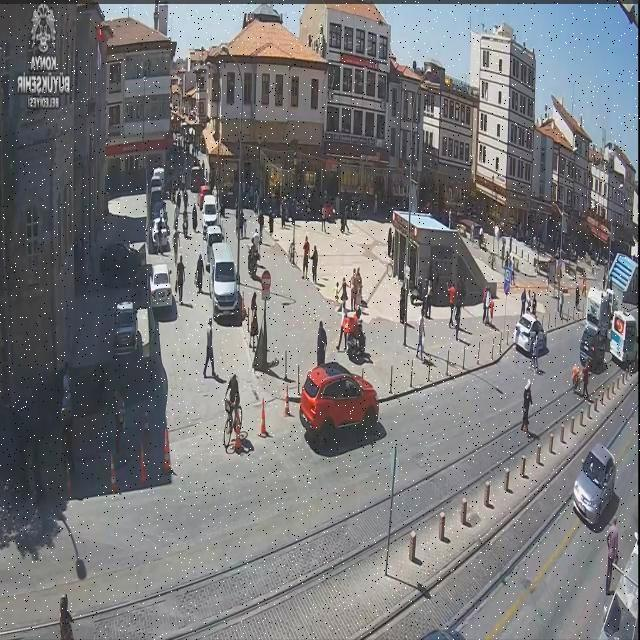Car: (295, 364, 384, 437), (572, 447, 624, 522), (512, 312, 552, 354), (578, 326, 608, 369), (148, 263, 173, 312)
Cycle: (223, 372, 245, 453)
Truck: (609, 310, 639, 366), (585, 288, 614, 327)
Van: (208, 242, 240, 316)
